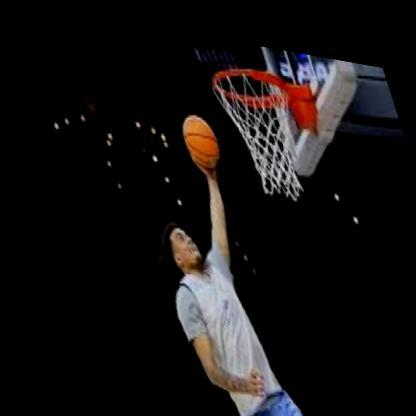basketball: (173, 103, 221, 166)
rim: (204, 48, 318, 204)
